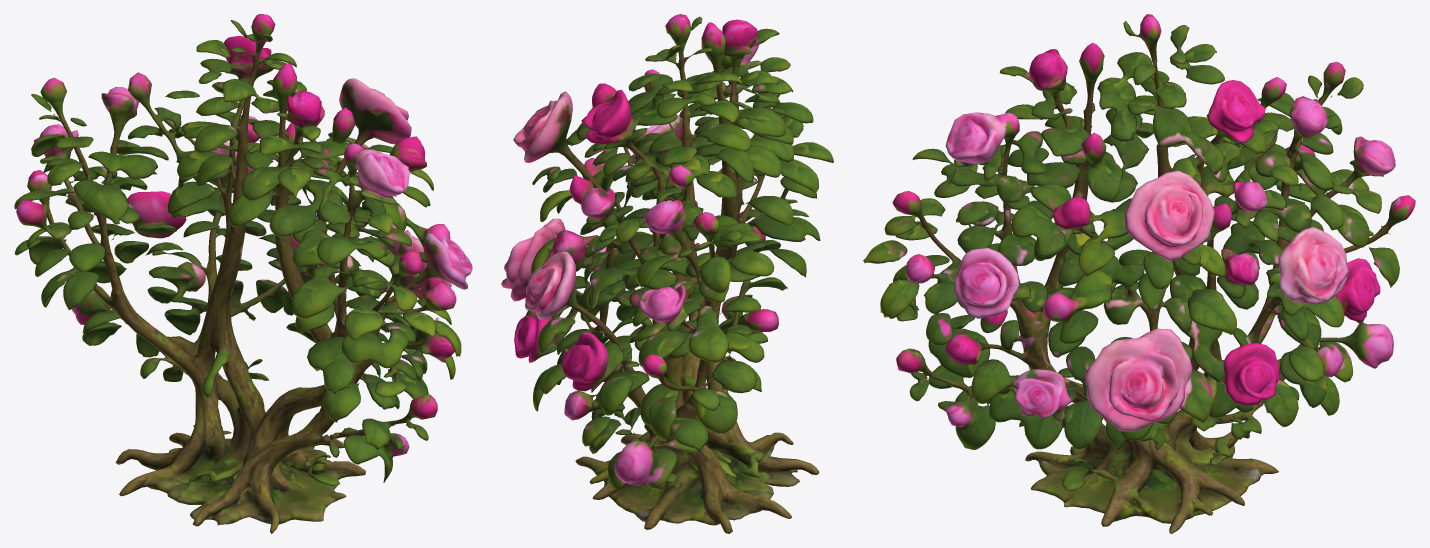
The picture shows the model from 3 angles, left to right: view 1: azimuth 30°, elevation 25°; view 2: azimuth 150°, elevation 25°; view 3: azimuth 270°, elevation 25°; orthographic projection.
Parts seen in each view (by area): view 1: tripo_node_15111662-cfd5-4770-aff8-646baed1bab5; view 2: tripo_node_15111662-cfd5-4770-aff8-646baed1bab5; view 3: tripo_node_15111662-cfd5-4770-aff8-646baed1bab5.
Boxes of the visible parts, x1,y1,x2,y2 form: tripo_node_15111662-cfd5-4770-aff8-646baed1bab5: [14, 14, 472, 533]; tripo_node_15111662-cfd5-4770-aff8-646baed1bab5: [501, 14, 833, 533]; tripo_node_15111662-cfd5-4770-aff8-646baed1bab5: [863, 14, 1415, 533].
Size of the model in its own units: 0.7093 by 0.9118 by 0.9652.
Materials: 1 (1 with a texture image).
